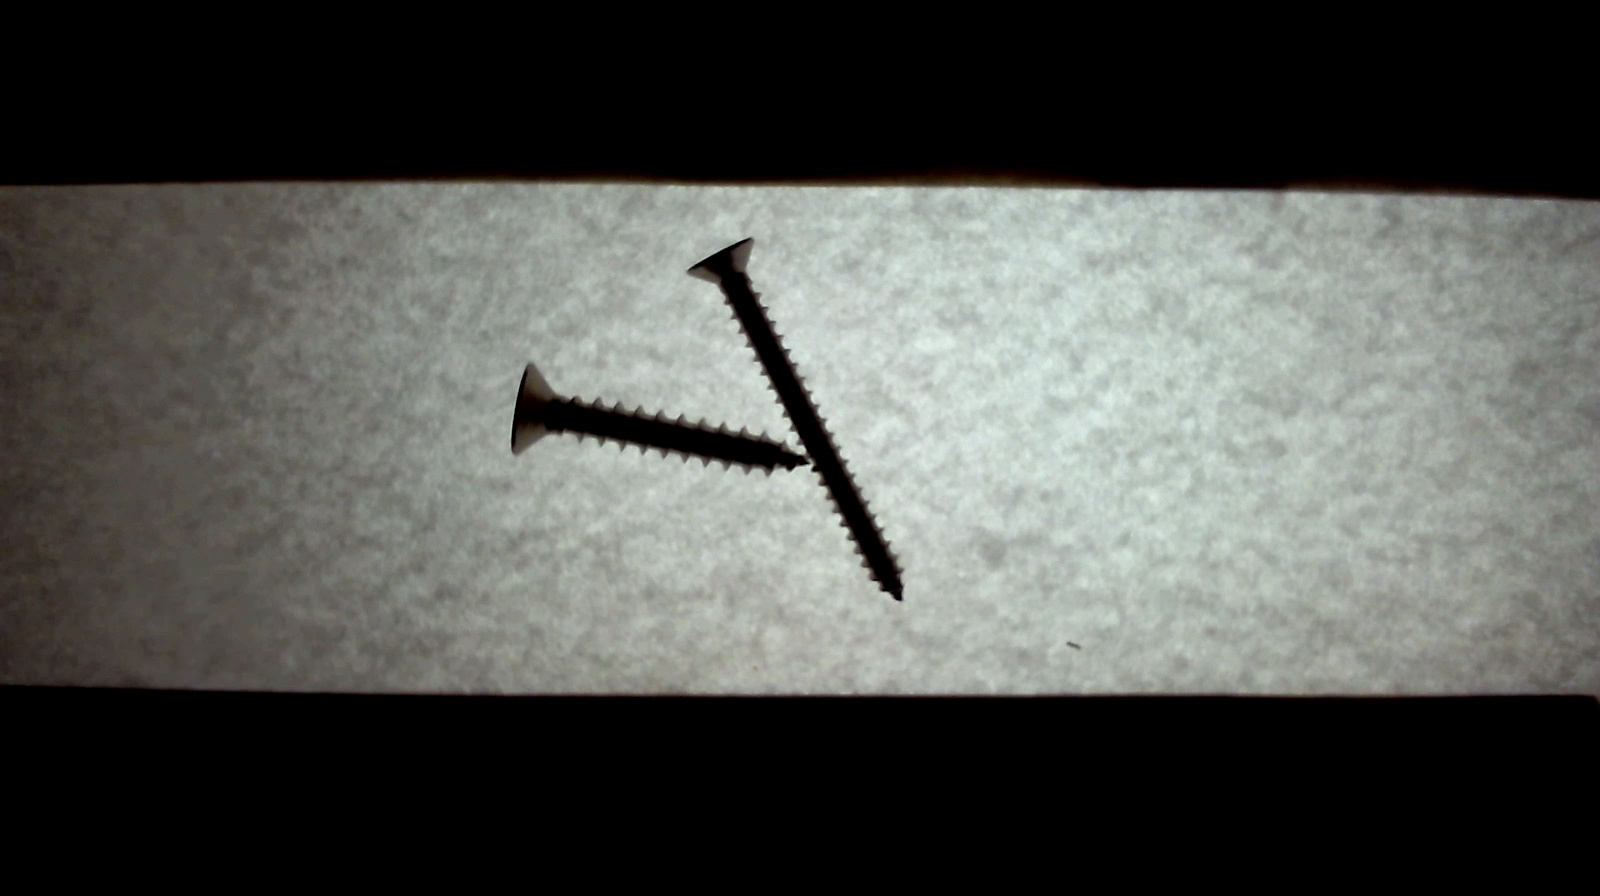S001: (501, 353, 823, 483)
S002: (681, 230, 924, 622)
